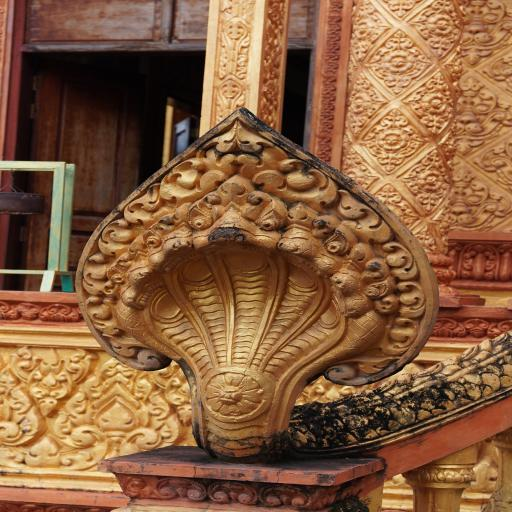hoa: (374, 126, 410, 153), (381, 49, 416, 75), (415, 168, 444, 192), (427, 13, 456, 35), (348, 93, 372, 113), (353, 18, 375, 39), (344, 168, 364, 184)
la: (216, 17, 251, 81), (454, 242, 502, 283), (213, 76, 250, 123), (205, 479, 260, 505), (254, 483, 310, 507), (154, 477, 208, 501), (370, 150, 410, 173), (380, 0, 424, 19), (38, 303, 80, 322), (424, 35, 458, 58), (419, 91, 450, 115), (430, 318, 466, 338), (381, 73, 413, 95), (338, 148, 370, 170), (400, 164, 422, 196), (417, 148, 448, 170), (310, 486, 339, 509), (383, 32, 416, 52), (360, 124, 382, 154), (404, 126, 428, 153), (372, 184, 406, 203), (377, 108, 409, 128), (411, 47, 433, 76), (411, 8, 431, 39), (370, 12, 391, 41), (420, 113, 449, 134), (423, 72, 452, 92), (367, 48, 386, 78), (407, 86, 426, 116), (428, 0, 461, 17), (462, 319, 490, 339), (415, 191, 441, 212), (400, 199, 421, 225), (368, 87, 386, 115), (487, 319, 512, 339), (360, 162, 379, 188), (13, 301, 38, 320), (349, 38, 370, 60), (434, 467, 462, 483), (443, 90, 459, 118), (346, 113, 368, 133), (350, 73, 372, 92), (354, 0, 377, 18), (0, 300, 19, 320), (420, 467, 443, 483), (402, 467, 424, 481), (458, 468, 477, 482)
lua: (50, 347, 185, 474), (10, 344, 98, 417), (0, 356, 48, 448), (144, 359, 200, 426)
ran: (72, 99, 445, 465)
